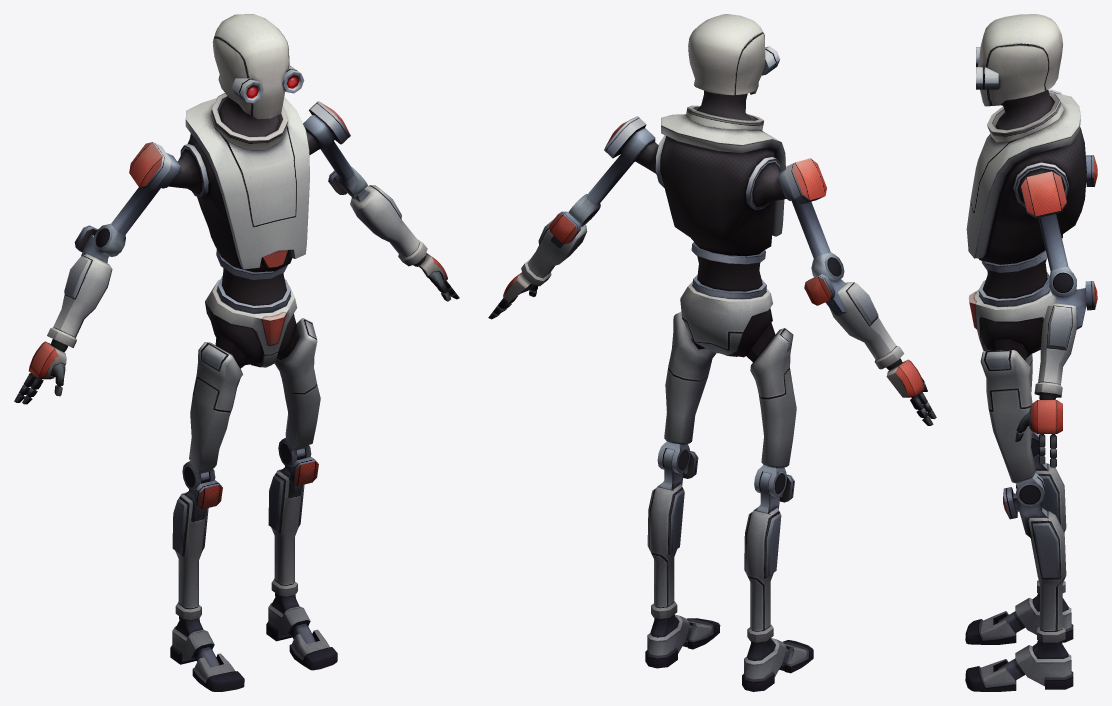
File: Robot_T.FBX
3 renders of one model, left to right at view 1: azimuth 30°, elevation 25°; view 2: azimuth 150°, elevation 25°; view 3: azimuth 270°, elevation 25°, orthographic.
Visible parts, largest first — view 1: Up, Down; view 2: Up, Down; view 3: Up, Down.
Boxes of the visible parts, bbox=[...] form: Up: bbox=[14, 14, 459, 404]; Down: bbox=[170, 268, 337, 691]; Up: bbox=[488, 14, 936, 425]; Down: bbox=[645, 256, 813, 691]; Up: bbox=[966, 14, 1097, 467]; Down: bbox=[965, 259, 1073, 691].
Bounding box in the file's own units: 130 × 180 × 33.58.
1 material, 1 textured.
